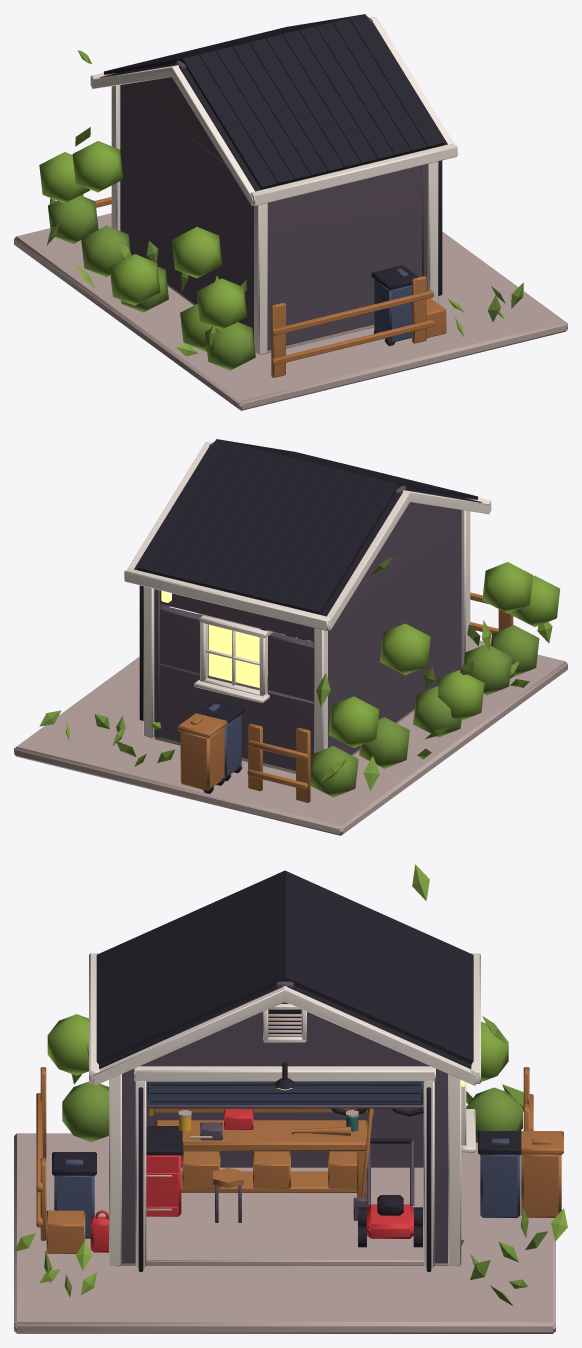
3 renders of one model, top to bottom at view 1: azimuth 30°, elevation 25°; view 2: azimuth 150°, elevation 25°; view 3: azimuth 270°, elevation 25°, orthographic. The views are drawn at different scales.
Parts seen in each view (by area): view 1: body_pal_asphalt, roof_pal_uiDark, body_pal_sidewalk, body_pal_foliage, body_pal_grass, roof_pal_picketWhite, body_pal_woodWarm, body_pal_picketWhite, roof_pal_asphalt, body_pal_denim, body_pal_uiDark, interior_pal_uiDark; view 2: body_pal_asphalt, roof_pal_uiDark, body_pal_sidewalk, body_pal_foliage, body_pal_grass, roof_pal_picketWhite, body_pal_woodWarm, body_pal_picketWhite, window_side_pal_picketWhite, roof_pal_asphalt, window_side_emi_windowGlow, body_pal_denim (+2 smaller); view 3: body_pal_sidewalk, roof_pal_uiDark, interior_pal_sidewalk, body_pal_picketWhite, interior_pal_woodWarm, body_pal_asphalt, roof_pal_picketWhite, roof_pal_asphalt, body_pal_woodWarm, body_pal_foliage, door_main_pal_denim, body_pal_grass (+10 smaller).
Part boxes in pixels (x1,y1,x2,y2): body_pal_asphalt: (120, 86, 427, 350); roof_pal_uiDark: (100, 14, 447, 191); body_pal_sidewalk: (14, 213, 567, 410); body_pal_foliage: (39, 50, 505, 356); body_pal_grass: (48, 127, 523, 370); roof_pal_picketWhite: (90, 17, 457, 205); body_pal_woodWarm: (81, 194, 446, 377); body_pal_picketWhite: (111, 85, 438, 354); roof_pal_asphalt: (120, 16, 372, 162); body_pal_denim: (374, 268, 411, 342); body_pal_uiDark: (371, 265, 418, 346); interior_pal_uiDark: (438, 160, 442, 295); body_pal_asphalt: (154, 511, 461, 770); roof_pal_uiDark: (134, 439, 481, 616); body_pal_sidewalk: (14, 613, 567, 835); body_pal_foliage: (66, 555, 560, 790); body_pal_grass: (39, 624, 539, 797); roof_pal_picketWhite: (124, 442, 491, 630); body_pal_woodWarm: (177, 592, 513, 802); body_pal_picketWhite: (143, 510, 470, 753); window_side_pal_picketWhite: (194, 615, 269, 703); roof_pal_asphalt: (209, 441, 461, 587); window_side_emi_windowGlow: (208, 625, 259, 687); body_pal_denim: (207, 703, 241, 777); body_pal_sidewalk: (14, 1133, 555, 1333); roof_pal_uiDark: (96, 870, 473, 1068); interior_pal_sidewalk: (121, 1109, 448, 1265); body_pal_picketWhite: (109, 1066, 461, 1267); interior_pal_woodWarm: (154, 1108, 372, 1197); body_pal_asphalt: (122, 1069, 447, 1263); roof_pal_picketWhite: (89, 953, 480, 1085); roof_pal_asphalt: (140, 981, 429, 1066); body_pal_woodWarm: (36, 1067, 563, 1253); body_pal_foliage: (14, 864, 567, 1295); door_main_pal_denim: (147, 1081, 422, 1104); body_pal_grass: (44, 1016, 547, 1306).
Bounding box in the file's own units: 6.2 × 4.36 × 7.15.
